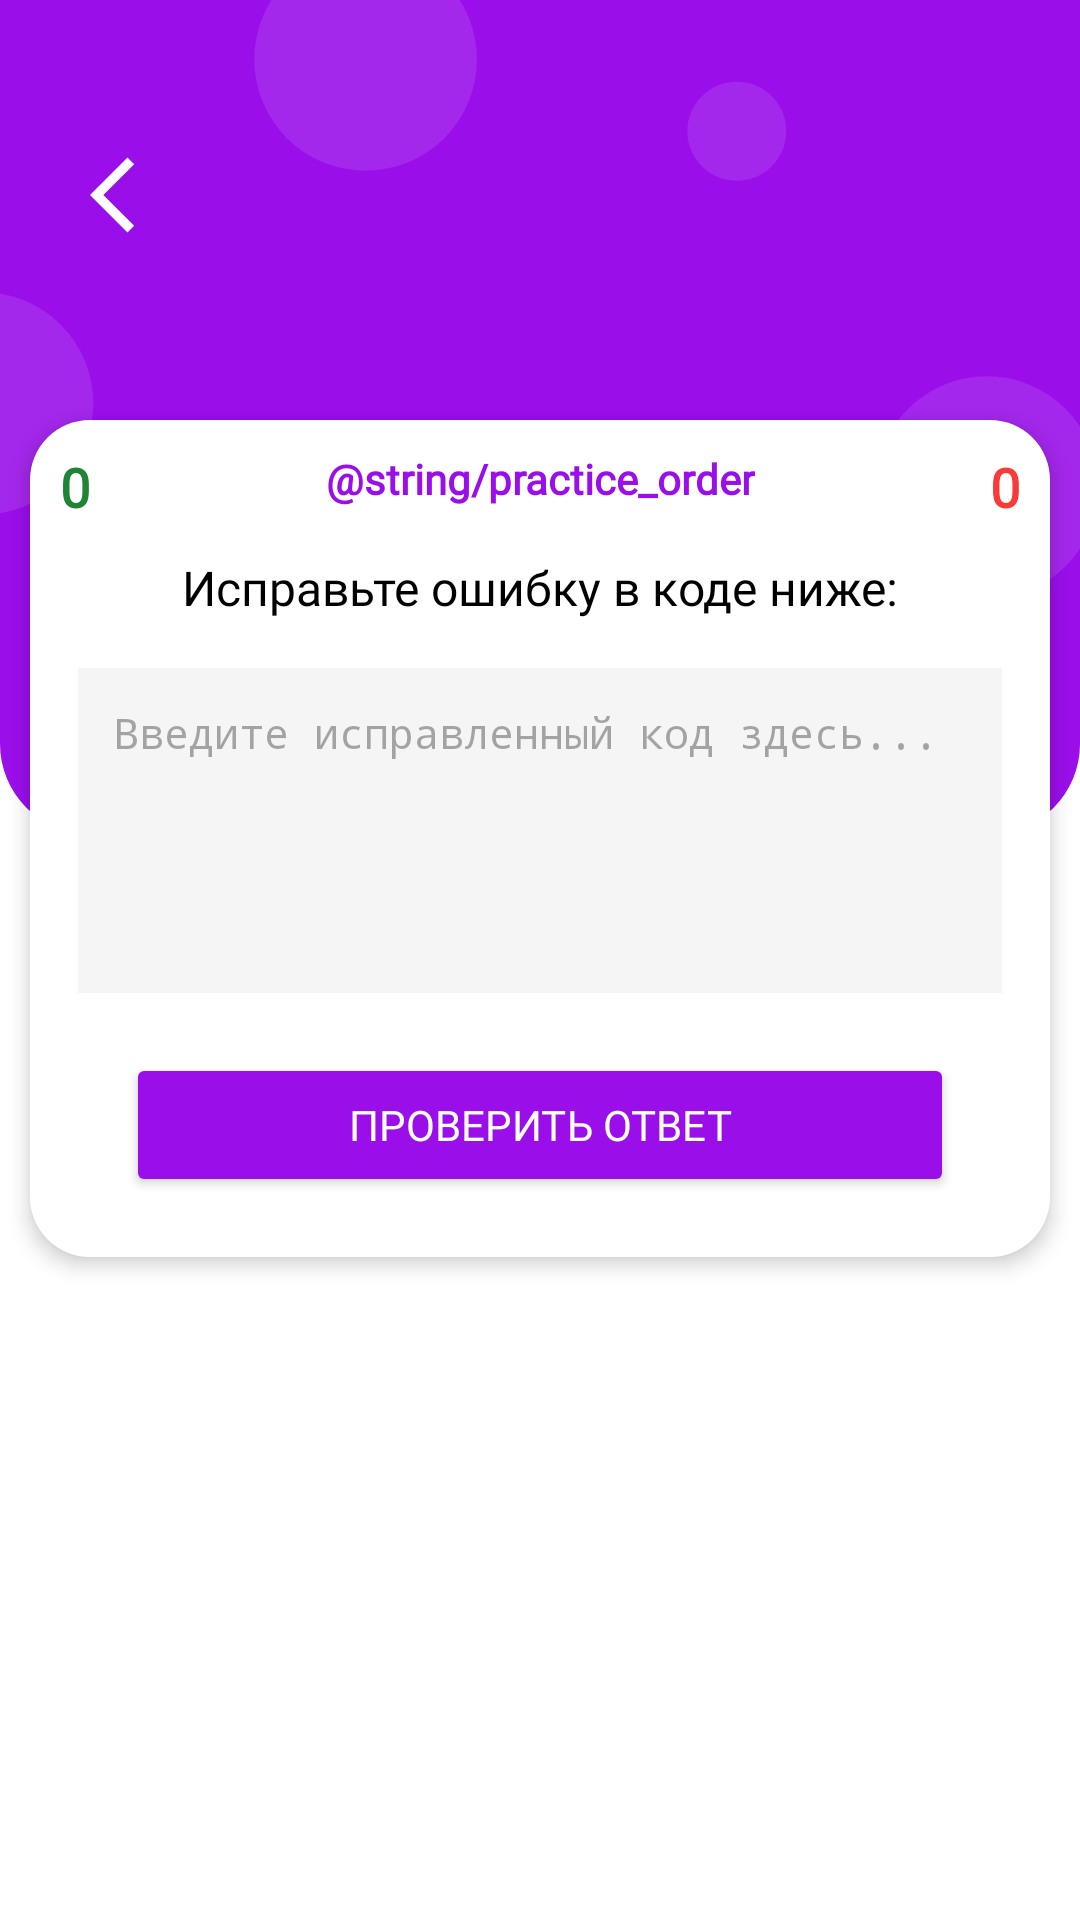

Screen size 1080px x 1920px. Icon name, then its center in pixels as (x=x, y=y):
back to menu button: (x=112, y=195)
